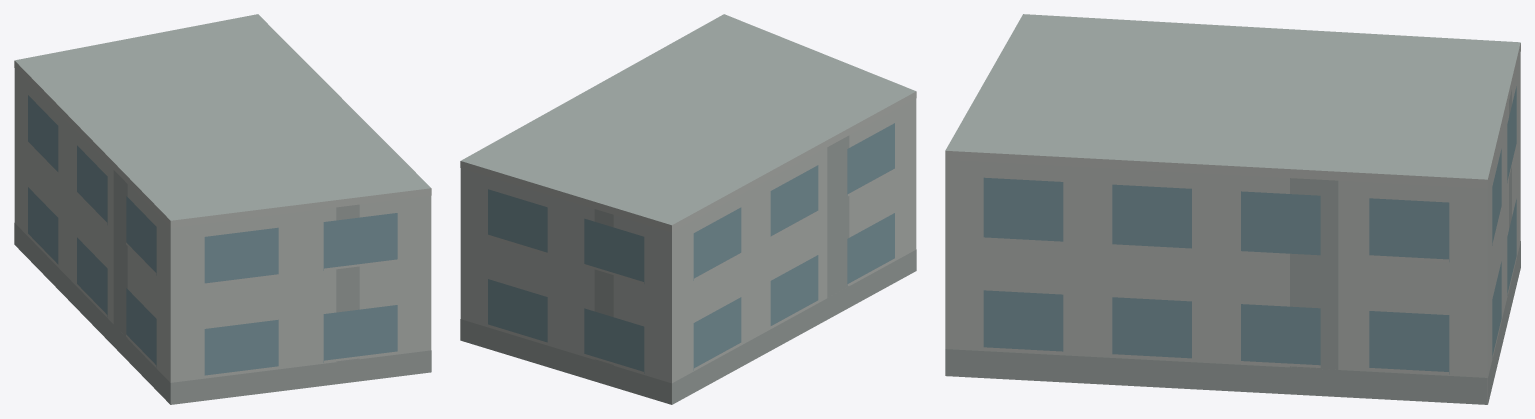
Rendered from survey-upis-32643137.glb.
3 renders of one model, left to right at view 1: azimuth 30°, elevation 25°; view 2: azimuth 150°, elevation 25°; view 3: azimuth 270°, elevation 25°, orthographic. The views are drawn at different scales.
Visible parts, largest first — view 1: survey-upis-32643137.tmp; view 2: survey-upis-32643137.tmp; view 3: survey-upis-32643137.tmp.
Boxes of the visible parts, <box> form: survey-upis-32643137.tmp: <box>14,14,431,404</box>; survey-upis-32643137.tmp: <box>460,14,916,404</box>; survey-upis-32643137.tmp: <box>945,14,1520,404</box>.
Bounding box in the file's own units: 9.63 × 6.1 × 14.14.
